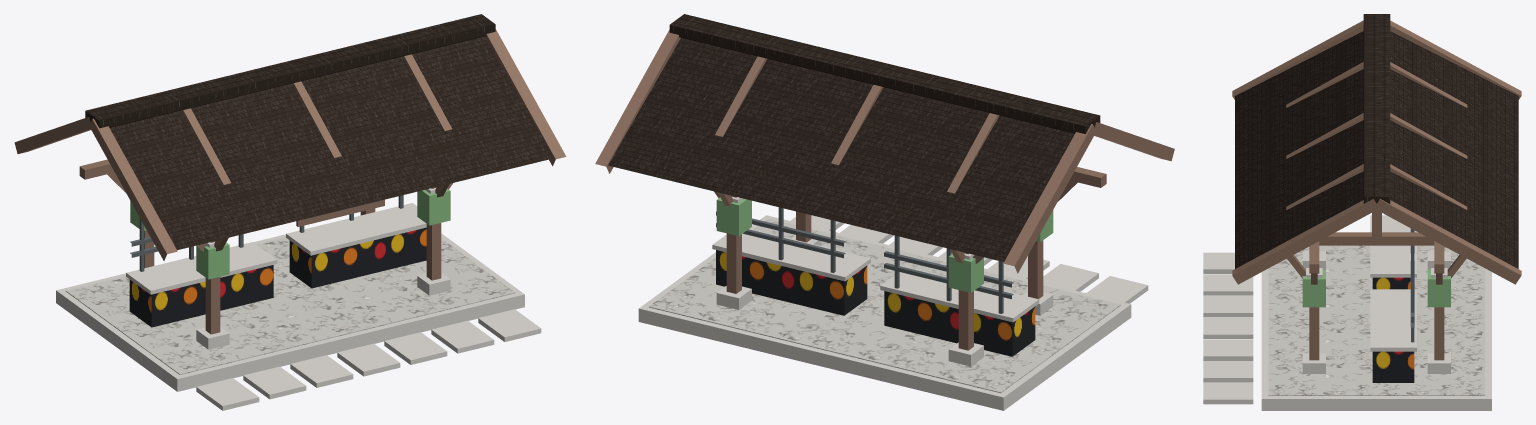
Rendered from halte_tempat_duduk_saung.glb.
3 views of the same model, side by side, from view 1: azimuth 30°, elevation 25°; view 2: azimuth 150°, elevation 25°; view 3: azimuth 270°, elevation 25° (orthographic). The views are drawn at different scales.
Visible parts, largest first — view 1: Atap_Ijuk_Rumbia, Border_Semen_Stepping_Stone, Lantai_Mosaik_Batu, Rangka_Kayu_Rustik, Bangku_Batu_Warna_Warni, Tanaman_Gantung, Pipa_Besi_Hitam_Sandaran; view 2: Atap_Ijuk_Rumbia, Border_Semen_Stepping_Stone, Lantai_Mosaik_Batu, Rangka_Kayu_Rustik, Bangku_Batu_Warna_Warni, Pipa_Besi_Hitam_Sandaran, Tanaman_Gantung; view 3: Atap_Ijuk_Rumbia, Lantai_Mosaik_Batu, Border_Semen_Stepping_Stone, Rangka_Kayu_Rustik, Bangku_Batu_Warna_Warni, Tanaman_Gantung, Pipa_Besi_Hitam_Sandaran.
Part boxes in pixels (x1,y1,x2,y2): Atap_Ijuk_Rumbia: [85, 14, 553, 250]; Border_Semen_Stepping_Stone: [56, 188, 541, 410]; Lantai_Mosaik_Batu: [65, 237, 515, 374]; Rangka_Kayu_Rustik: [14, 29, 566, 334]; Bangku_Batu_Warna_Warni: [129, 227, 426, 327]; Tanaman_Gantung: [130, 188, 450, 279]; Pipa_Besi_Hitam_Sandaran: [130, 195, 403, 271]; Atap_Ijuk_Rumbia: [608, 14, 1100, 261]; Border_Semen_Stepping_Stone: [638, 196, 1148, 410]; Lantai_Mosaik_Batu: [649, 218, 1120, 393]; Rangka_Kayu_Rustik: [595, 29, 1174, 350]; Bangku_Batu_Warna_Warni: [716, 250, 1035, 356]; Pipa_Besi_Hitam_Sandaran: [716, 207, 1013, 313]; Tanaman_Gantung: [716, 197, 1053, 292]; Atap_Ijuk_Rumbia: [1235, 14, 1518, 268]; Lantai_Mosaik_Batu: [1268, 245, 1485, 395]; Border_Semen_Stepping_Stone: [1203, 215, 1491, 410]; Rangka_Kayu_Rustik: [1232, 20, 1521, 360]; Bangku_Batu_Warna_Warni: [1372, 277, 1414, 382]; Tanaman_Gantung: [1302, 269, 1450, 307]; Pipa_Besi_Hitam_Sandaran: [1410, 228, 1414, 342].
Size of the model in its own units: 5.24 by 2.98 by 3.82.
8 materials, 4 textured.
